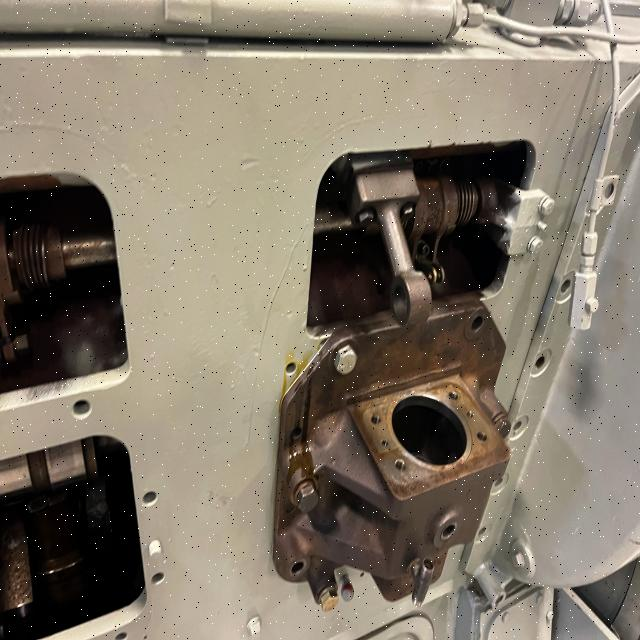Oil Leak: (275, 339, 326, 513)
